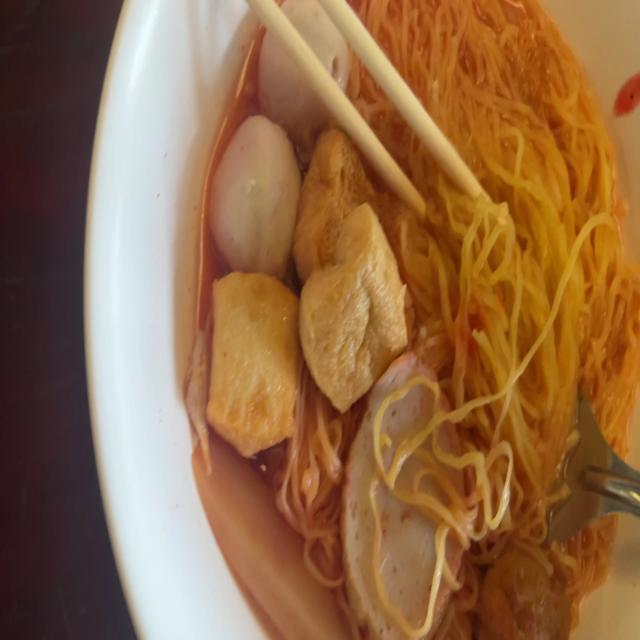crunchy_squid: (188, 424, 350, 639)
egg_noodles: (356, 0, 638, 625)
fish_ball: (210, 111, 300, 277), (252, 0, 348, 148)
fried_fish_balls: (348, 354, 463, 638)
fried_tofu: (299, 205, 407, 389), (294, 128, 382, 289)
noodle: (194, 0, 640, 640)
tofu: (204, 270, 298, 454)
